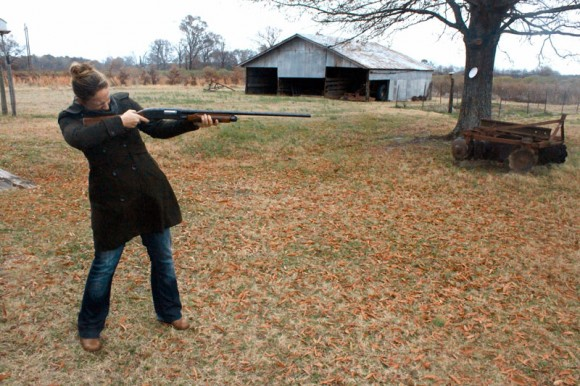Rifle: (81, 108, 316, 136)
